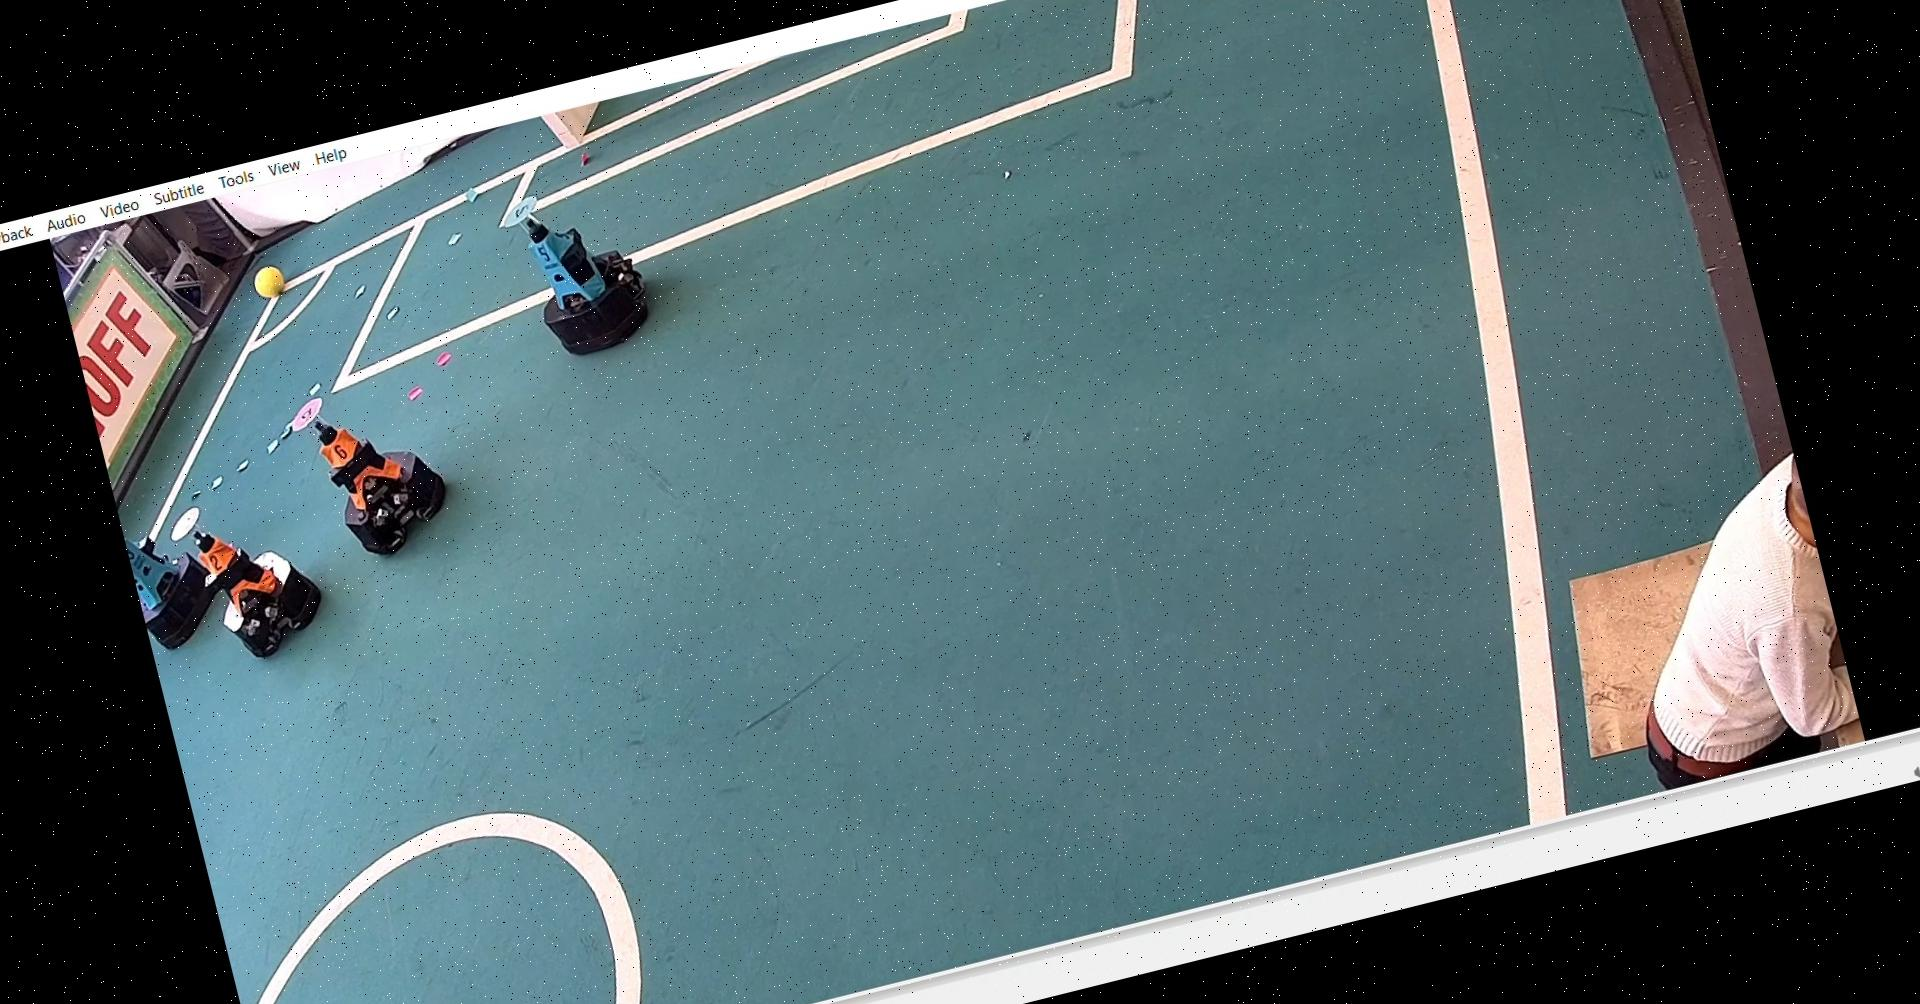Ball: (257, 259, 298, 298)
Team_Blue: (494, 162, 672, 371), (124, 504, 240, 650)
Team_Red: (278, 360, 461, 570), (177, 480, 331, 665)
